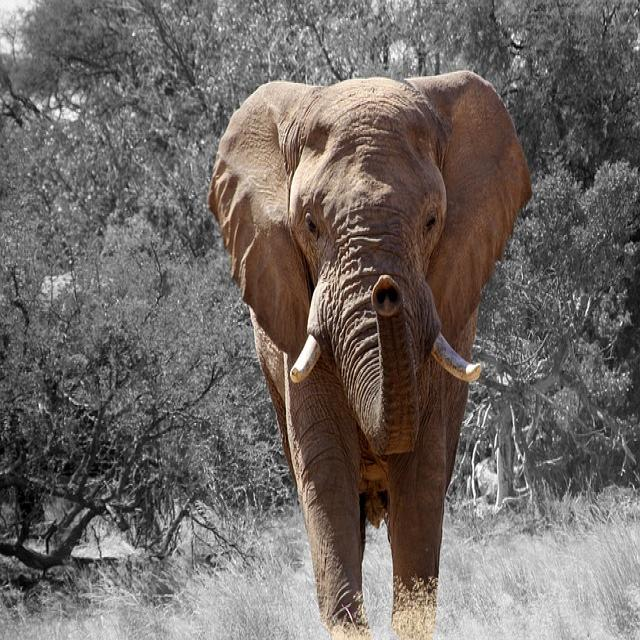elephant: (209, 73, 530, 621)
